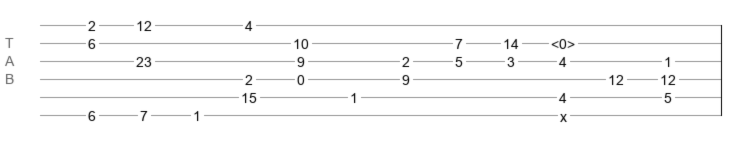0: (297, 72, 305, 82)
1: (193, 108, 201, 118), (350, 90, 358, 100), (664, 54, 672, 64)
10: (293, 36, 309, 46)
12: (136, 18, 152, 28), (608, 72, 624, 82), (660, 72, 676, 82)
14: (503, 36, 519, 46)
15: (241, 90, 257, 100)
2: (88, 18, 96, 28), (245, 72, 253, 82), (402, 54, 410, 64)
23: (136, 54, 152, 64)
3: (507, 54, 515, 64)
4: (245, 18, 253, 28), (559, 90, 567, 100), (559, 54, 567, 64)
5: (455, 54, 463, 64), (664, 90, 672, 100)
6: (88, 108, 96, 118), (88, 36, 96, 46)
7: (140, 108, 148, 118), (455, 36, 463, 46)
9: (297, 54, 305, 64), (402, 72, 410, 82)
harmonic: (551, 36, 575, 46)
x: (560, 109, 567, 117)
